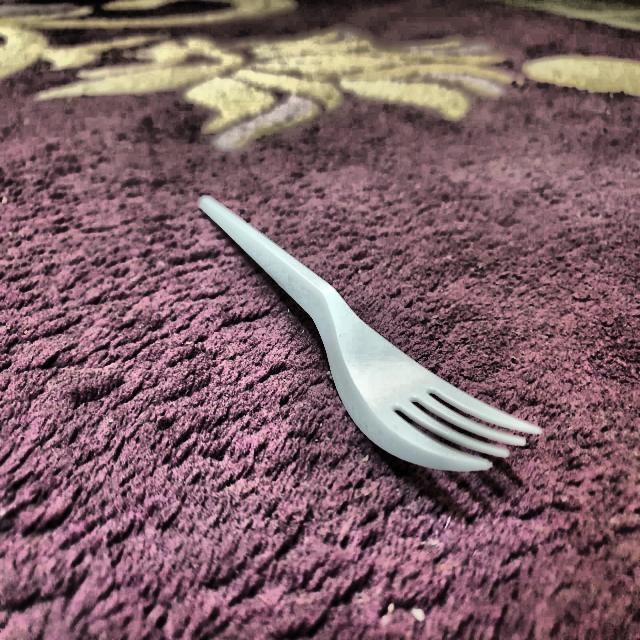plastic utensil: (200, 186, 550, 495)
